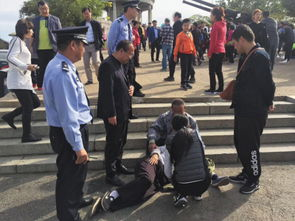10+: (2, 1, 292, 219)
down: (90, 141, 176, 214)
